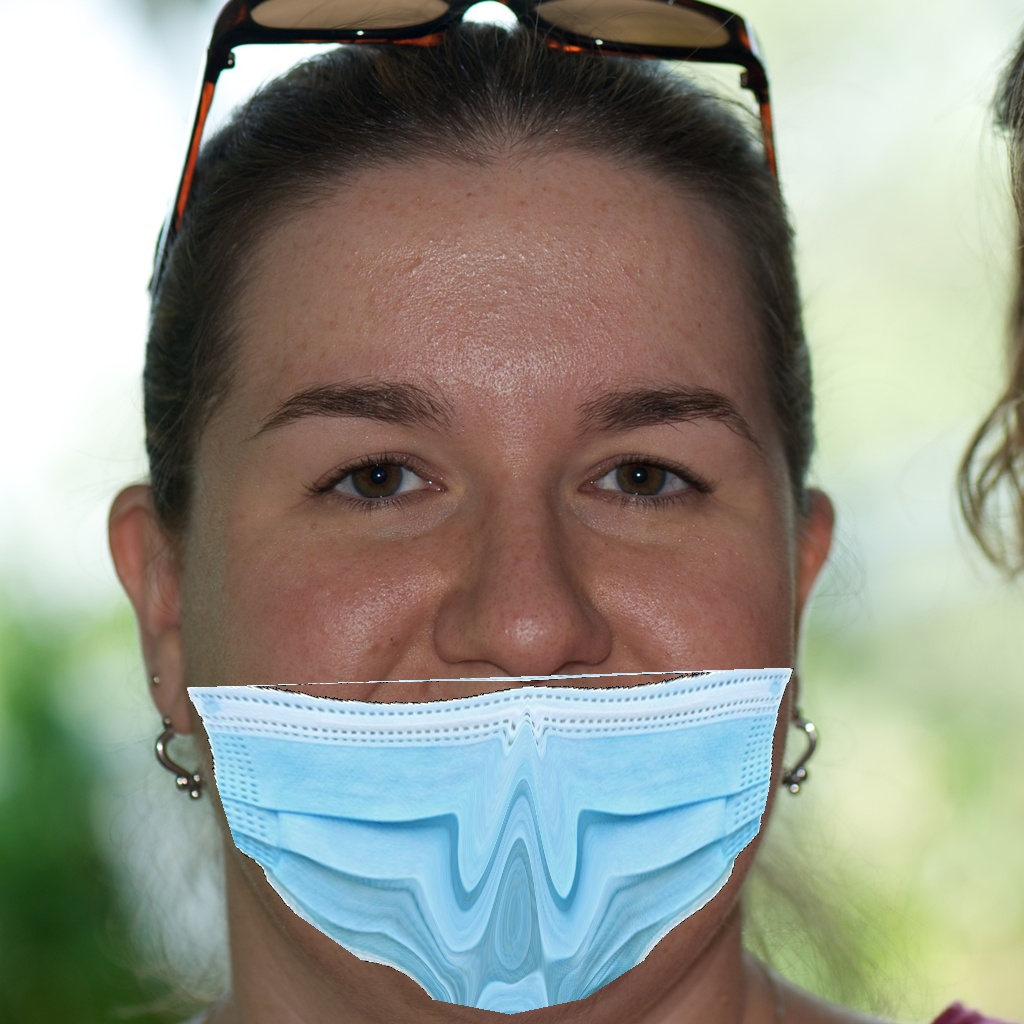mascarilla_mal_puesta: (116, 385, 908, 988)
